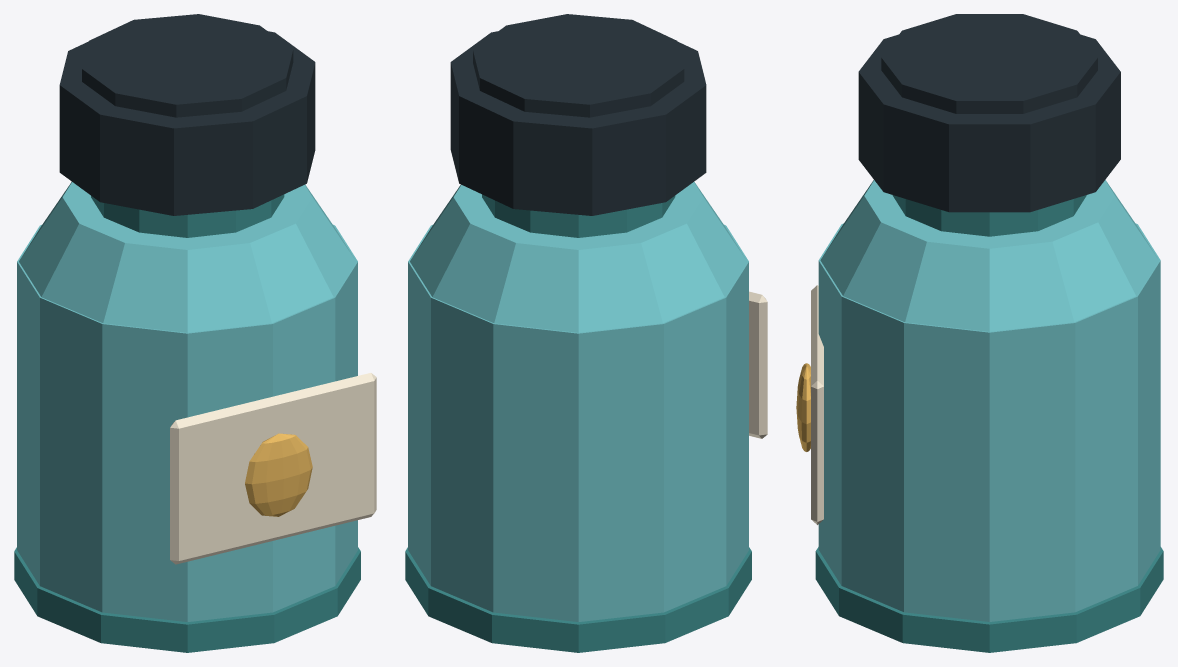
The model's file is glue_v1.glb.
The picture shows the model from 3 angles, left to right: view 1: azimuth 30°, elevation 25°; view 2: azimuth 150°, elevation 25°; view 3: azimuth 270°, elevation 25°; orthographic projection.
Visible parts, largest first — view 1: Glue / faceted body, Glue / shoulder, Glue / twist cap, Glue / paper label, Glue / cap top, Glue / dark base rim, Glue / raised drop emblem, Glue / neck; view 2: Glue / faceted body, Glue / shoulder, Glue / twist cap, Glue / cap top, Glue / dark base rim, Glue / neck, Glue / paper label; view 3: Glue / faceted body, Glue / shoulder, Glue / twist cap, Glue / cap top, Glue / dark base rim, Glue / neck, Glue / paper label, Glue / raised drop emblem.
Part boxes in pixels (x1,y1,x2,y2): Glue / faceted body: (17, 224, 357, 621); Glue / shoulder: (19, 182, 356, 332); Glue / twist cap: (59, 31, 315, 215); Glue / paper label: (170, 373, 376, 564); Glue / cap top: (82, 14, 293, 117); Glue / dark base rim: (14, 547, 360, 652); Glue / raised drop emblem: (245, 433, 312, 516); Glue / neck: (91, 194, 284, 237); Glue / faceted body: (408, 224, 748, 621); Glue / shoulder: (410, 182, 747, 332); Glue / twist cap: (450, 31, 706, 215); Glue / cap top: (473, 14, 684, 117); Glue / dark base rim: (405, 547, 751, 652); Glue / neck: (482, 194, 675, 237); Glue / paper label: (749, 291, 767, 438); Glue / faceted body: (818, 223, 1160, 621); Glue / shoulder: (820, 180, 1158, 331); Glue / twist cap: (858, 34, 1120, 212); Glue / cap top: (881, 14, 1097, 113); Glue / dark base rim: (815, 547, 1163, 652); Glue / neck: (892, 195, 1086, 236); Glue / paper label: (811, 285, 823, 524); Glue / raised drop emblem: (796, 363, 810, 451).
Size of the model in its own units: 0.61 by 1.01 by 0.644.
